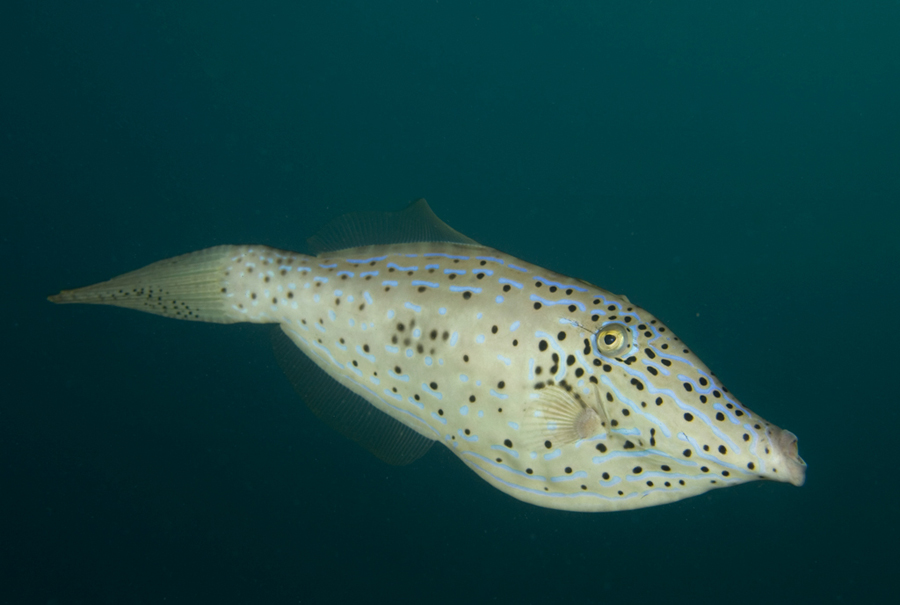Aluterus_scriptus: (41, 192, 809, 526)
